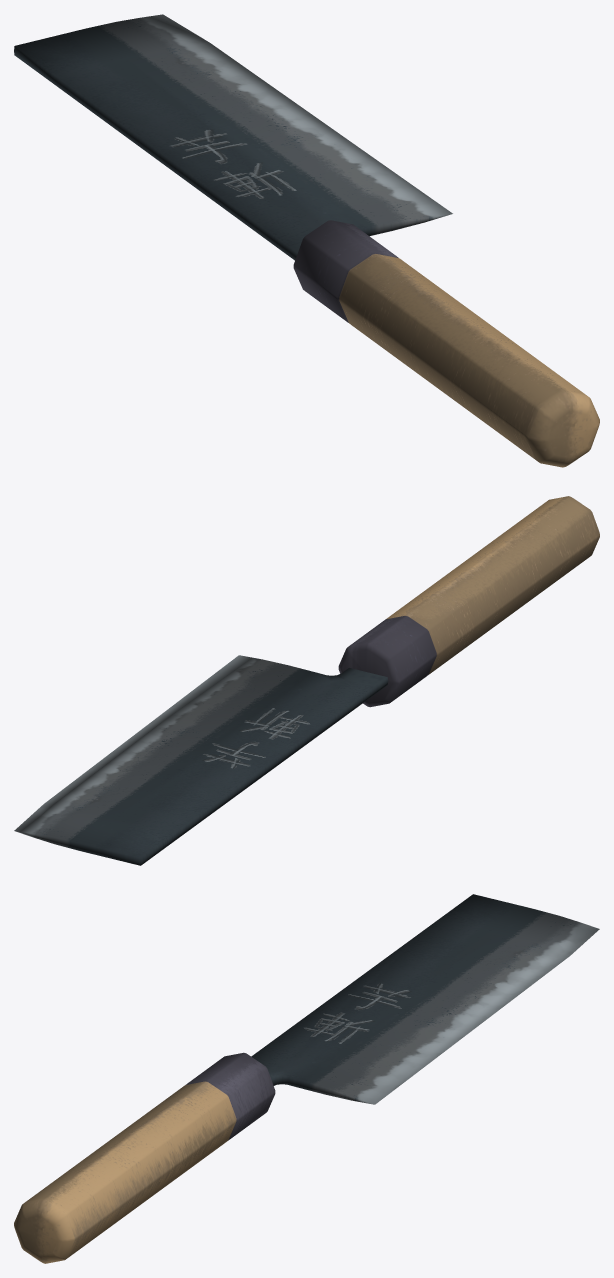
The model's file is CookingKnifeCleaver.glb.
3 renders of one model, top to bottom at view 1: azimuth 30°, elevation 25°; view 2: azimuth 150°, elevation 25°; view 3: azimuth 330°, elevation 25°, orthographic. The views are drawn at different scales.
Parts seen in each view (by area): view 1: KitchenCleaver; view 2: KitchenCleaver; view 3: KitchenCleaver.
Boxes of the visible parts, box(x1,y1,x2,y2) form: KitchenCleaver: box(14, 14, 599, 467); KitchenCleaver: box(14, 496, 599, 865); KitchenCleaver: box(14, 894, 599, 1263).
Size of the model in its own units: 0.105 by 0.0431 by 0.5573.
Materials: 1 (1 with a texture image).
